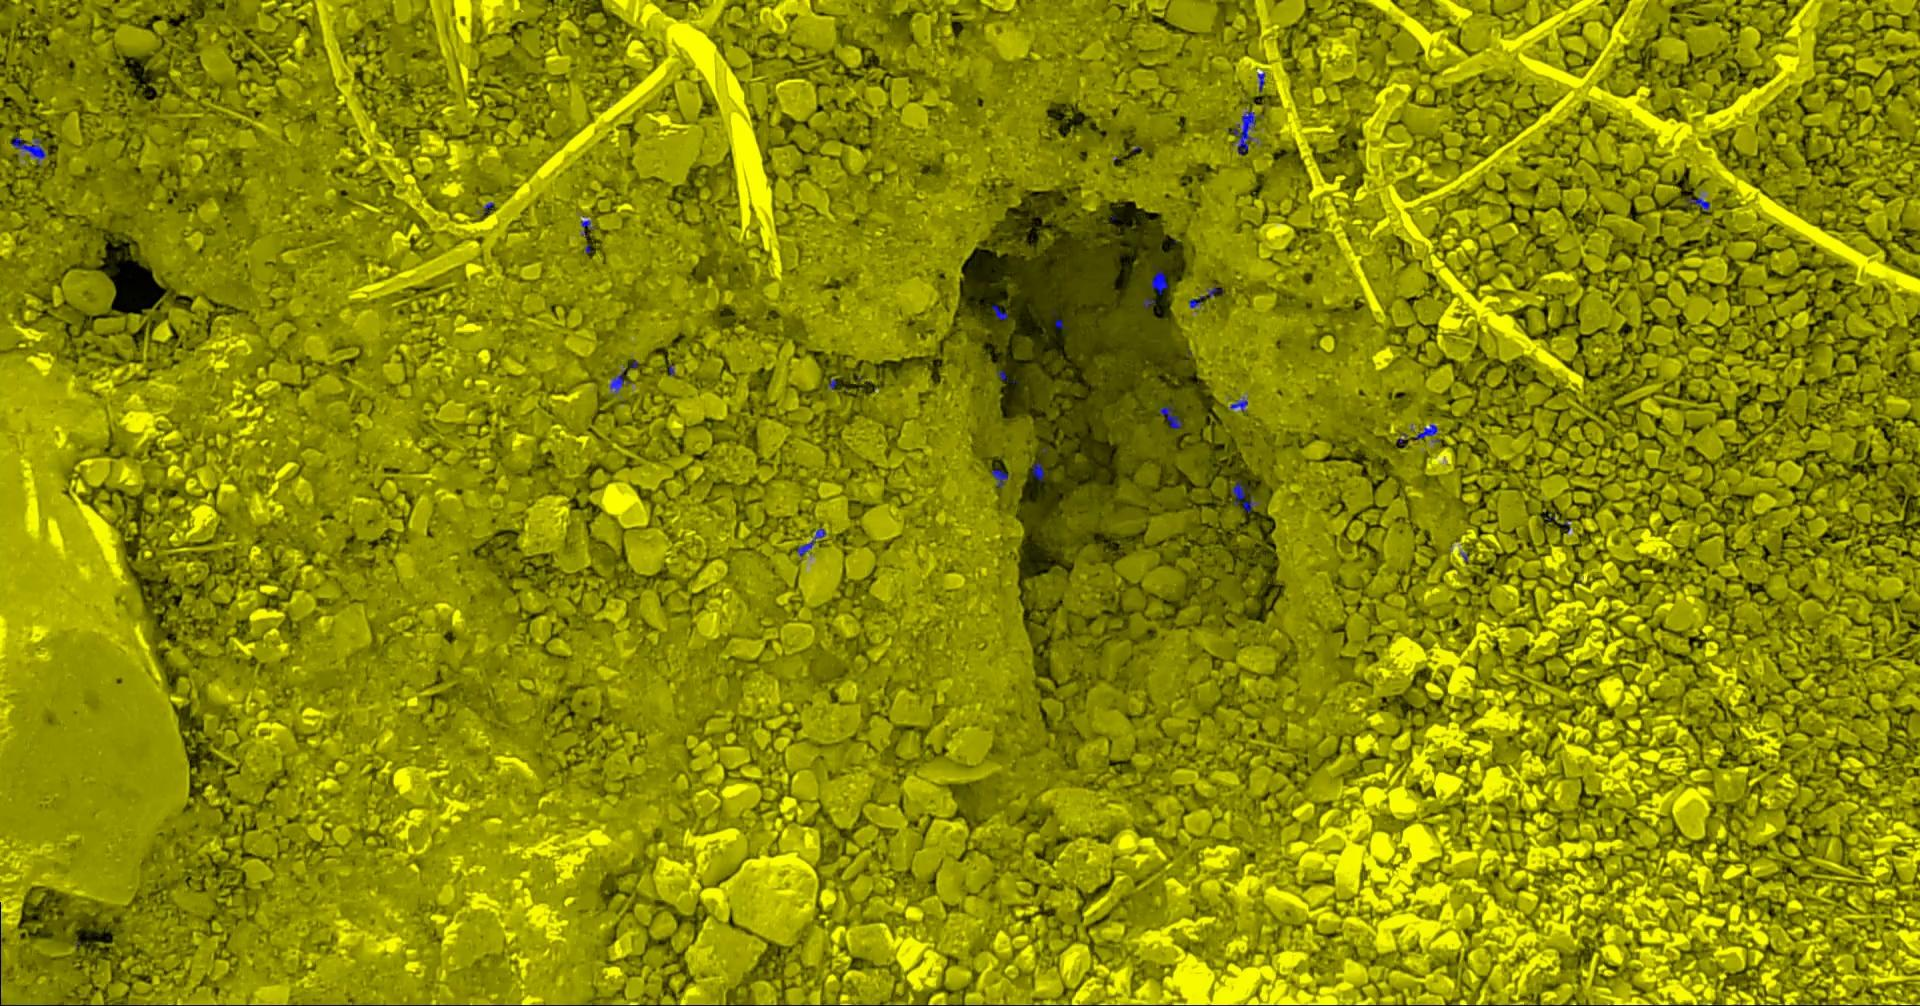ant: (1227, 111, 1261, 154), (11, 136, 46, 164), (796, 527, 825, 556), (1230, 481, 1258, 512), (1189, 286, 1222, 307), (1159, 405, 1181, 428), (610, 368, 629, 392), (1415, 424, 1439, 442), (1150, 269, 1167, 293), (990, 467, 1008, 486), (1688, 197, 1709, 210), (1229, 396, 1247, 412), (990, 304, 1007, 319), (1031, 461, 1043, 481)
